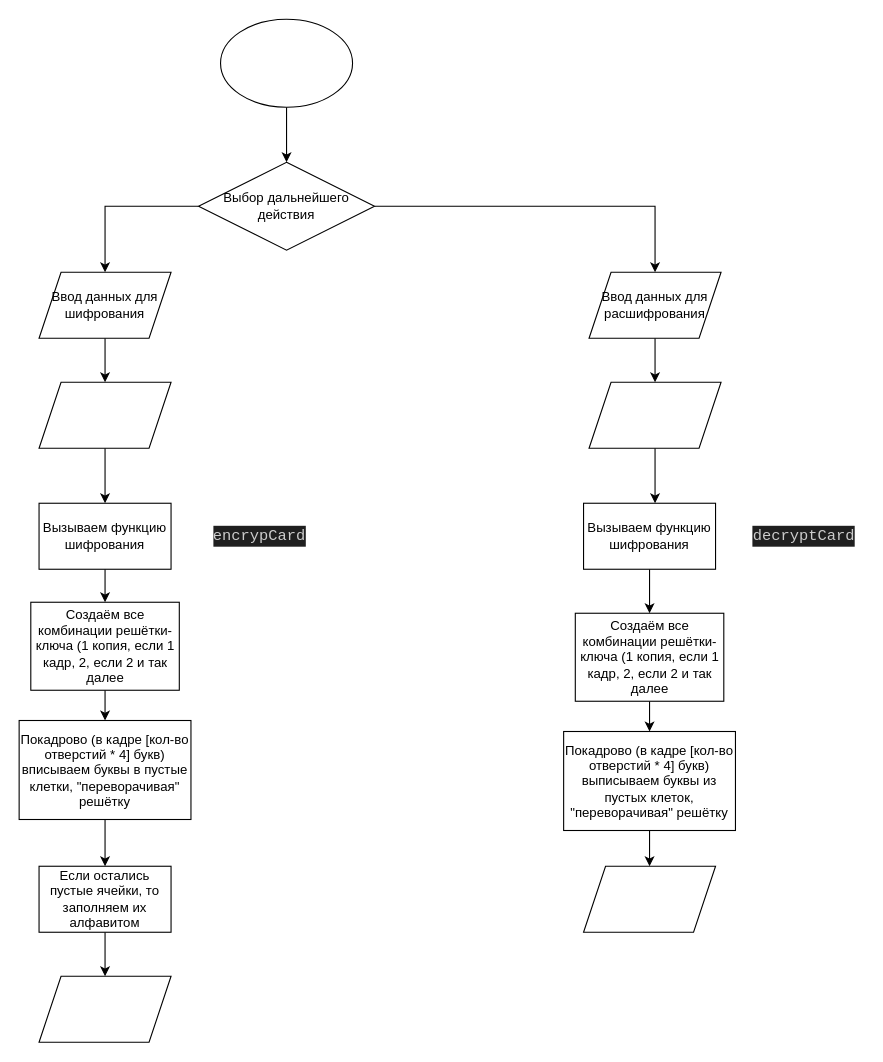
This 883x1062 diagram has some shape labels left out. Each missing label, with the centre of its shape:
Выводим зашифрованное сообщение: the point at 104,1008
Выводим расшифрованное сообщение: the point at 649,898
Нажатие кнопки "Расшифровать": the point at 654,414
Нажатие кнопки "Шифровать": the point at 104,414
Начало: the point at 286,62
